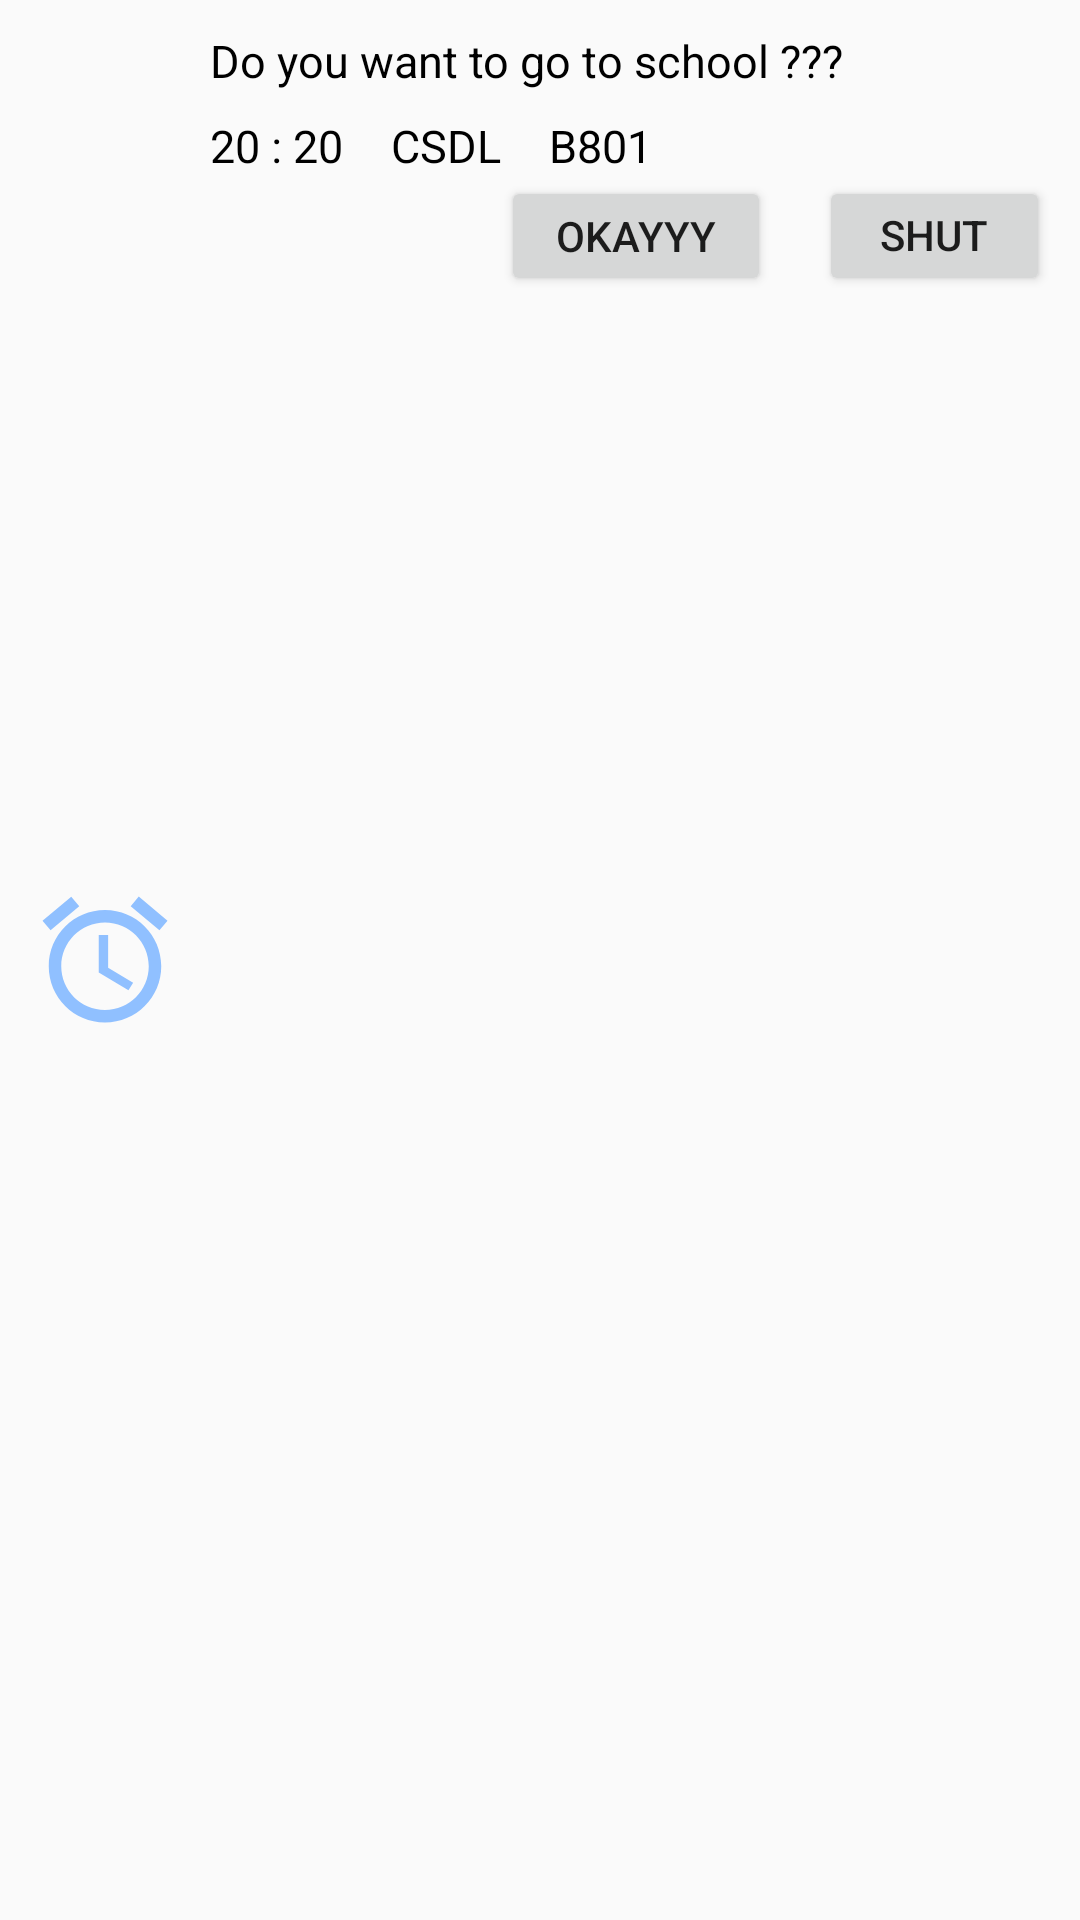

Where icons sit on this 1080 × 1920 app screen, as (x1, y1, x2, y2):
access alarm blu: (43, 897, 167, 1023)
